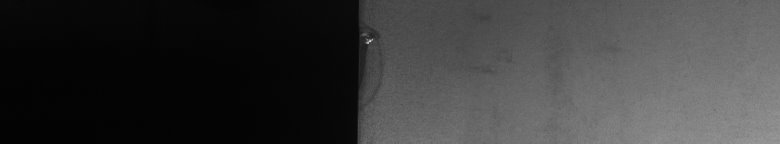hb: (368, 20, 384, 104)
